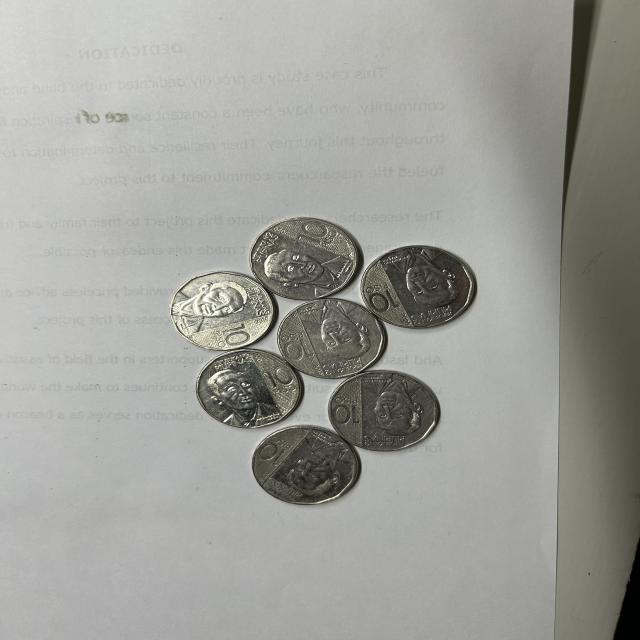10_New_Front: (331, 392, 364, 436), (361, 281, 397, 316), (207, 322, 245, 355), (292, 216, 330, 247), (255, 434, 292, 464), (253, 361, 294, 388), (275, 332, 313, 359)
